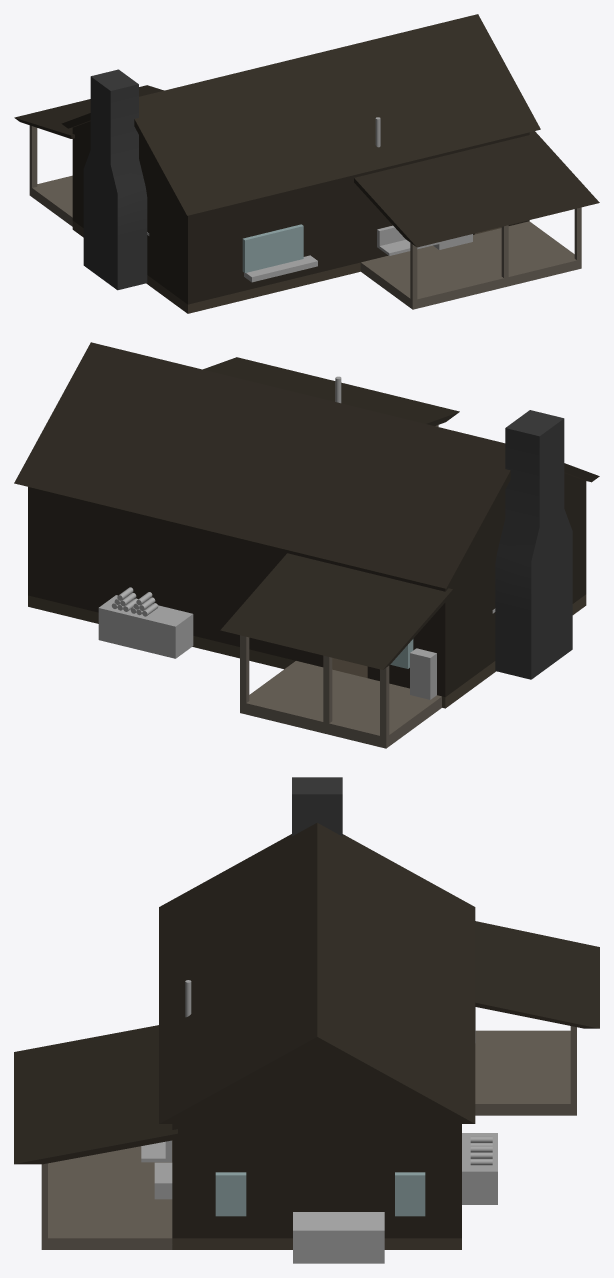
Rendered from lodgetest3.fbx.
3 views of the same model, one above another, from view 1: azimuth 30°, elevation 25°; view 2: azimuth 150°, elevation 25°; view 3: azimuth 270°, elevation 25° (orthographic). The views are drawn at different scales.
Visible parts, largest first — view 1: pCube32; view 2: pCube32; view 3: pCube32.
Part boxes in pixels (box(x1,y1,x2,y2)): pCube32: box(14, 14, 599, 313); pCube32: box(14, 342, 599, 748); pCube32: box(14, 777, 599, 1263).
Size of the model in its own units: 18.71 by 8.83 by 19.12.
